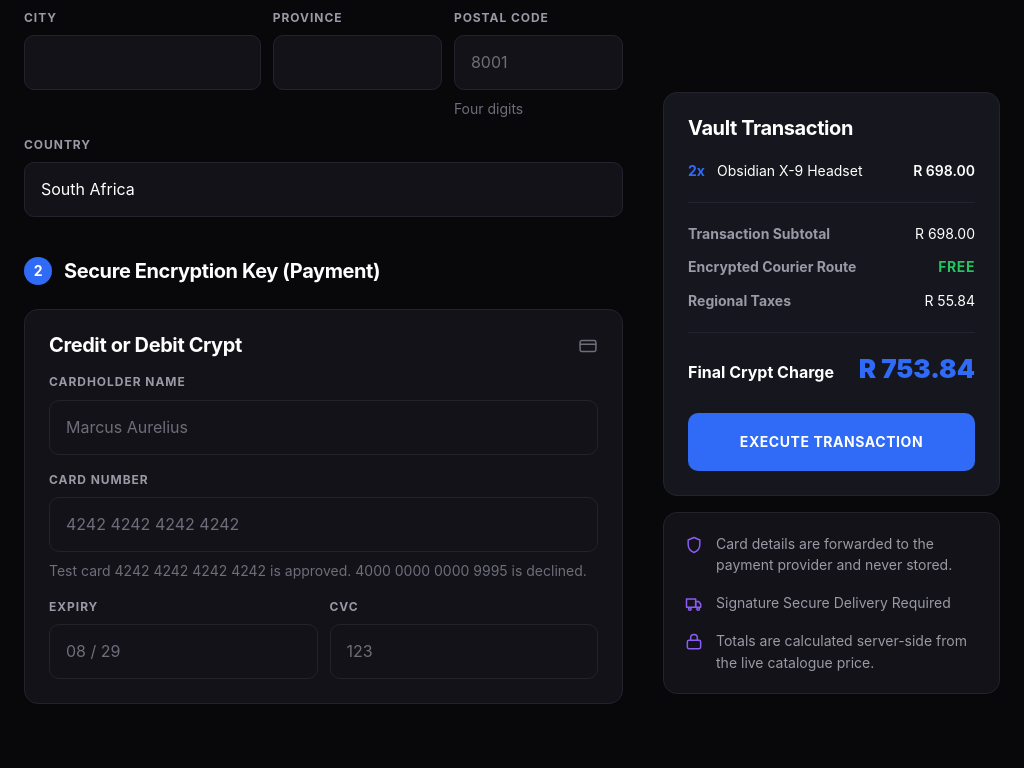
Test: what the card fields do while typing › the card number is grouped in fours so it can be checked by eye
(page scrolled)
In the field labelled "Card number": (324, 525) [49, 497, 598, 552], type "4242424242424242"
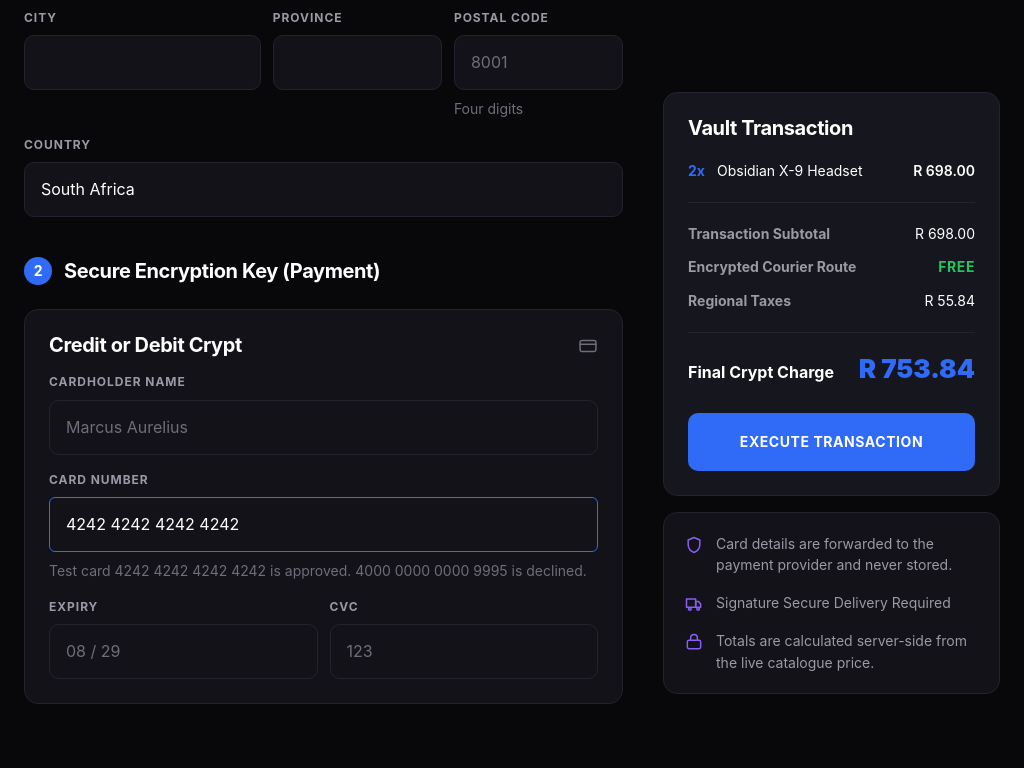
Check: the field labelled "Card number" holds "4242 4242 4242 4242", box [49, 497, 598, 552]
